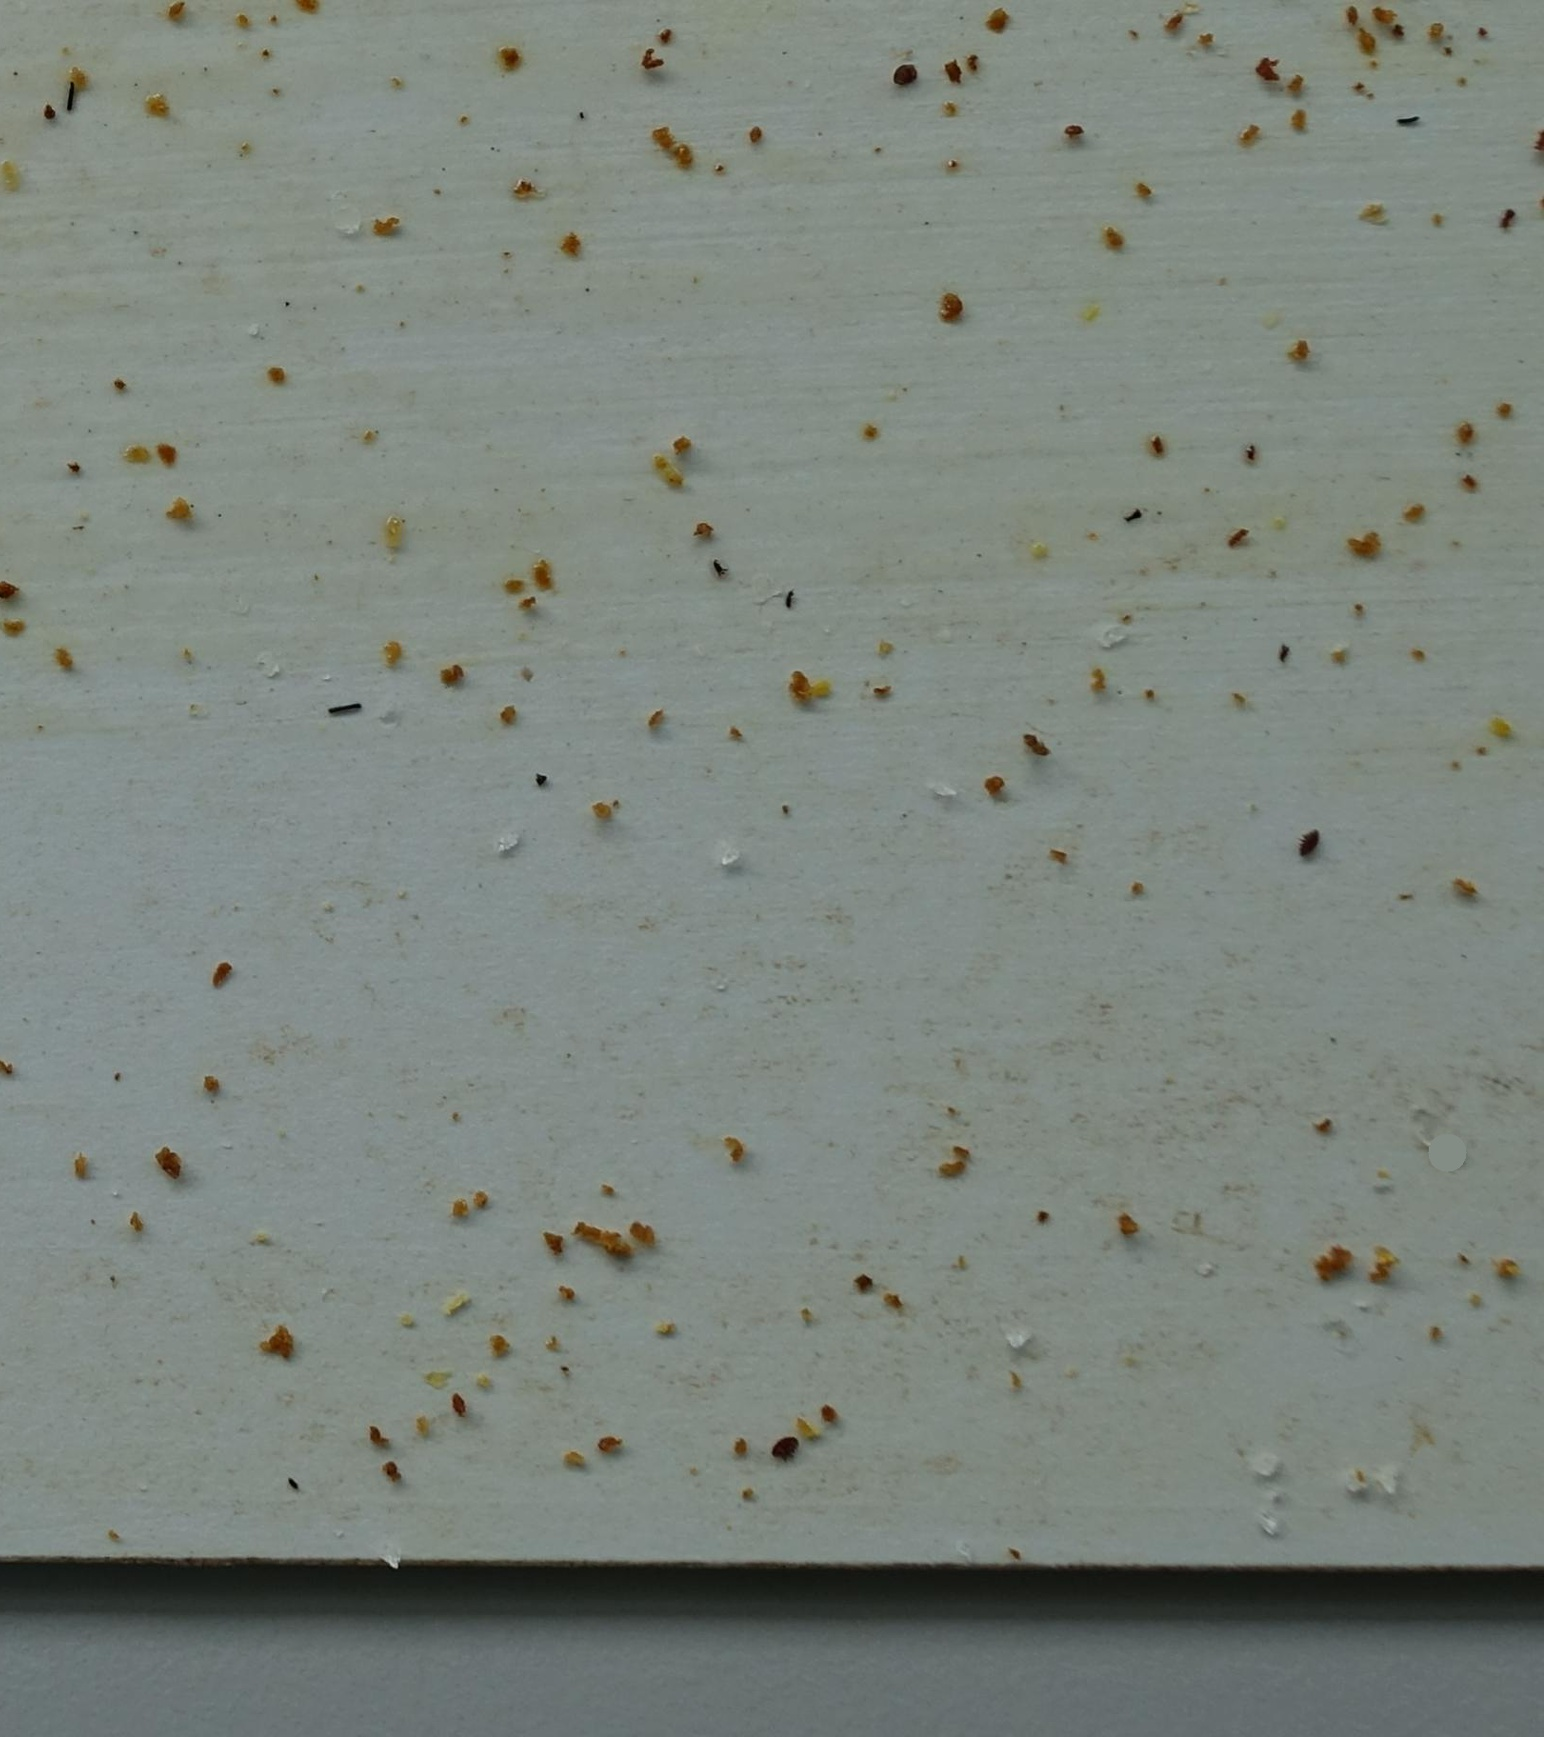Varroa: (1297, 830, 1325, 858), (888, 63, 914, 89), (773, 1435, 794, 1457)
